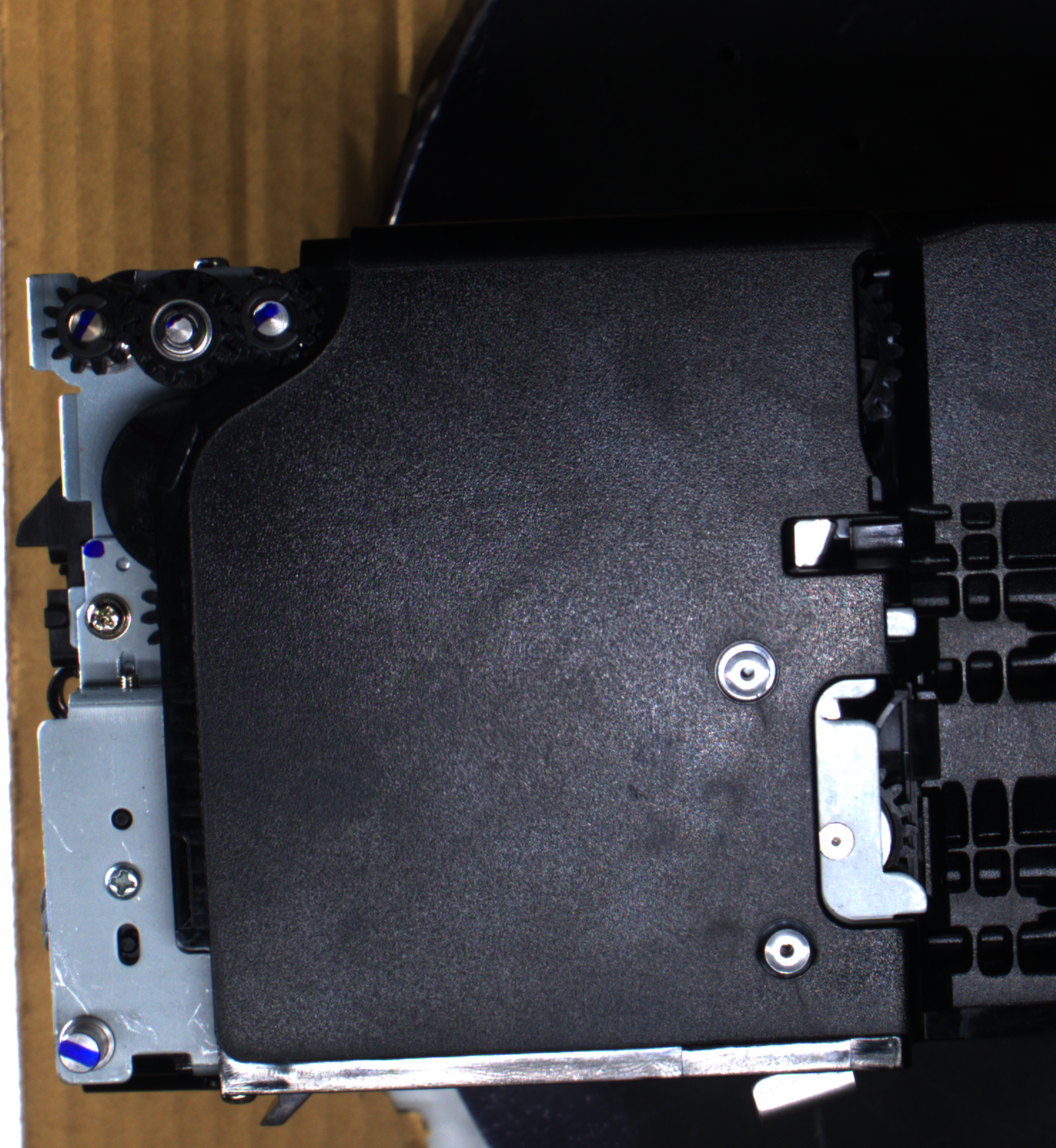centre_pin_presence: (745, 1058, 862, 1121)
centre_plate_presence: (806, 668, 942, 934)
centre_screw_presence: (711, 634, 783, 709), (750, 911, 821, 987)
gear1_presence: (39, 274, 139, 375)
gear2_presence: (123, 268, 239, 388)
gear3_presence: (222, 267, 323, 371)
side_screw_presence: (81, 590, 134, 641), (100, 859, 144, 901)
slanting_pin_presence: (51, 1011, 123, 1081)
